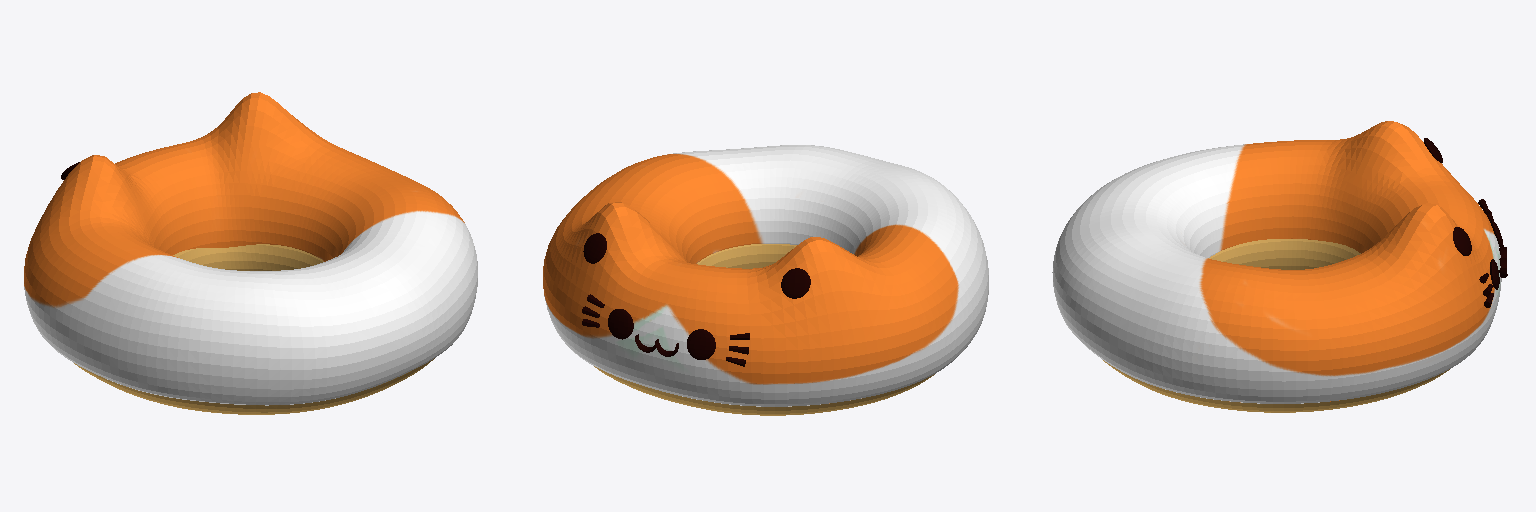
3 views of the same model, side by side, from view 1: azimuth 30°, elevation 25°; view 2: azimuth 150°, elevation 25°; view 3: azimuth 270°, elevation 25° (orthographic).
Parts seen in each view (by area): view 1: 01_Icing_Shironeko_Torus.004, 00_Donut_Base.002_Torus.005; view 2: 01_Icing_Shironeko_Torus.004, 00_Donut_Base.002_Torus.005, 02_Cat_Eye_Dot_Right.002_Sphere.011, 02_Cat_Ear_Dot_Right.002_Sphere.009, 02_Cat_Eye_Dot_Left.002_Sphere.010, 02_Cat_Ear_Dot_Left.002_Sphere.008; view 3: 01_Icing_Shironeko_Torus.004, 00_Donut_Base.002_Torus.005.
Part boxes in pixels (x1,y1,x2,y2): 01_Icing_Shironeko_Torus.004: (24, 92, 477, 405); 00_Donut_Base.002_Torus.005: (74, 244, 434, 414); 01_Icing_Shironeko_Torus.004: (543, 145, 988, 406); 00_Donut_Base.002_Torus.005: (594, 244, 934, 415); 02_Cat_Eye_Dot_Right.002_Sphere.011: (687, 329, 715, 359); 02_Cat_Ear_Dot_Right.002_Sphere.009: (781, 268, 810, 298); 02_Cat_Eye_Dot_Left.002_Sphere.010: (608, 309, 633, 339); 02_Cat_Ear_Dot_Left.002_Sphere.008: (583, 233, 606, 263); 01_Icing_Shironeko_Torus.004: (1052, 121, 1501, 403); 00_Donut_Base.002_Torus.005: (1103, 239, 1449, 412).
Size of the model in its own units: 1.14 by 0.4965 by 1.16.
Materials: 3 (3 with a texture image).